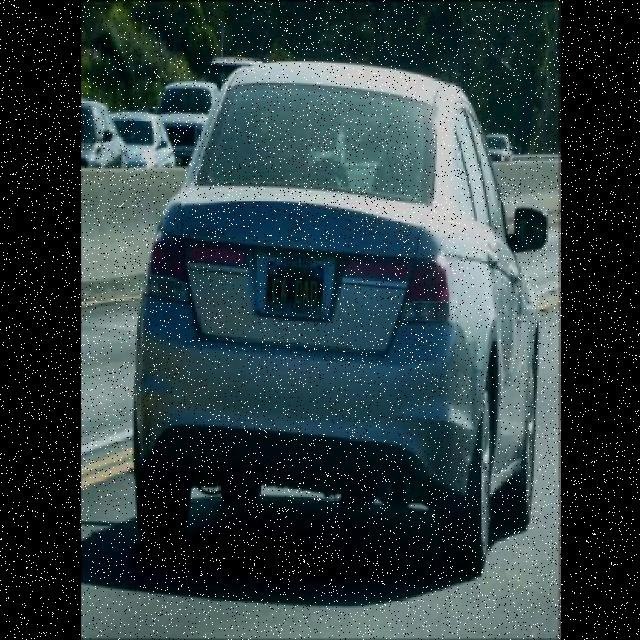licenseplate: (267, 255, 325, 319)
